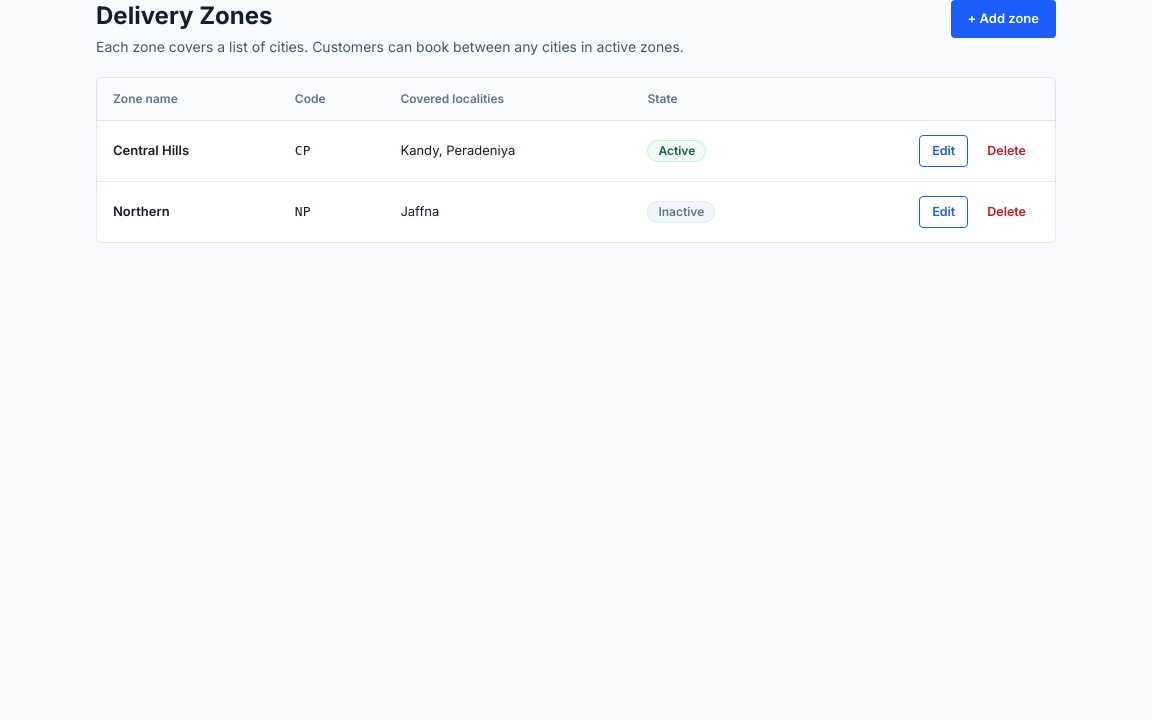
Test: ZoneManagementPage › edits a zone, including turning it off, and shows server conflicts
Click the button with aria-label "Edit Central Hills" at [944, 151], box [919,135,968,167]
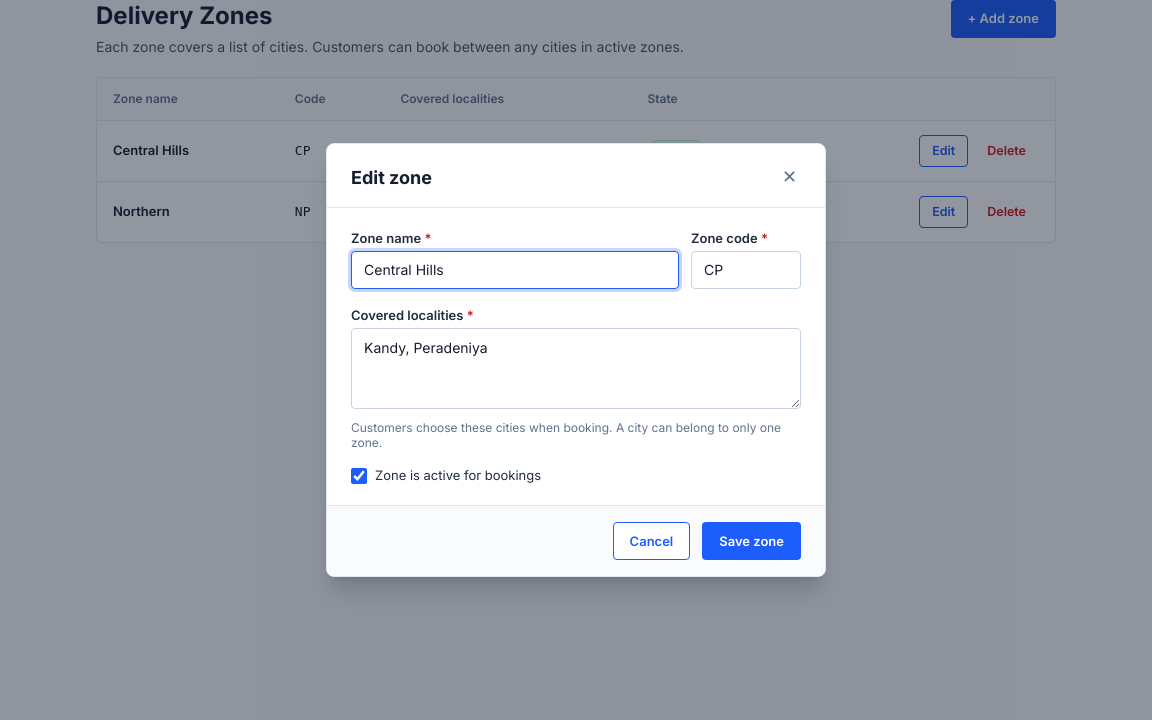
Expected: the text box labelled "Covered localities *" holds "Kandy, Peradeniya", [351,328,801,409]
Click the checkbox labelled "Zone is active for bookings" at [359, 476], box [351,468,367,484]
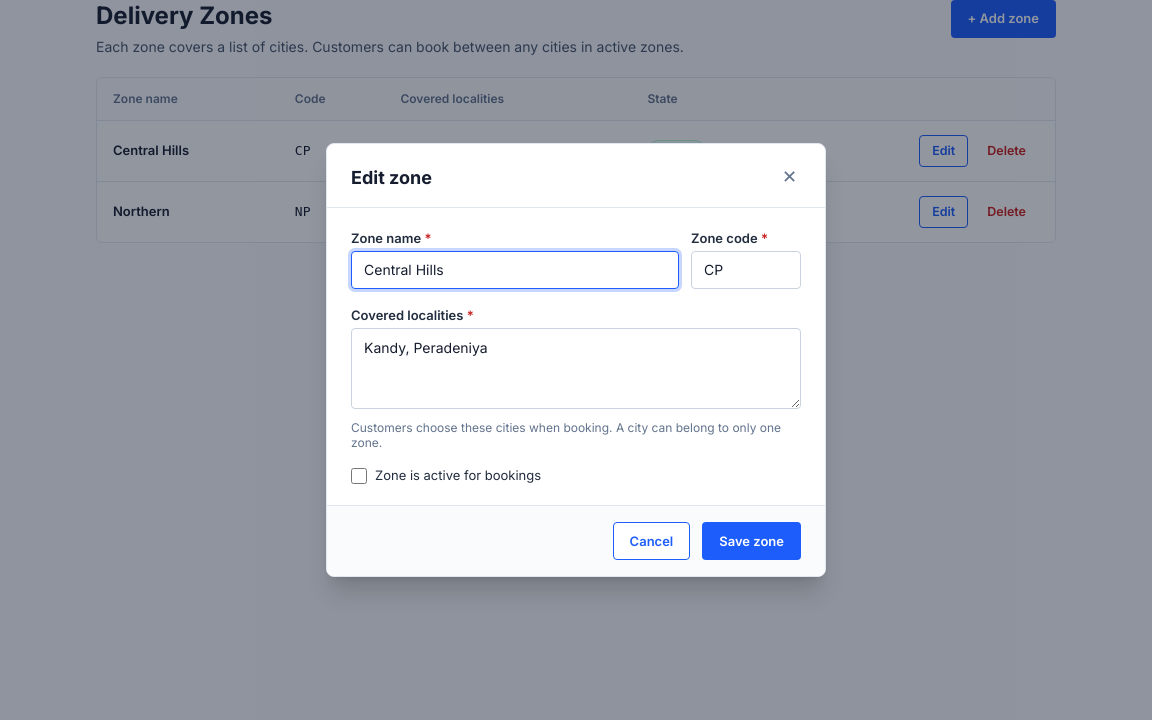
Click the button "Save zone" at [752, 541], box [702,522,801,560]
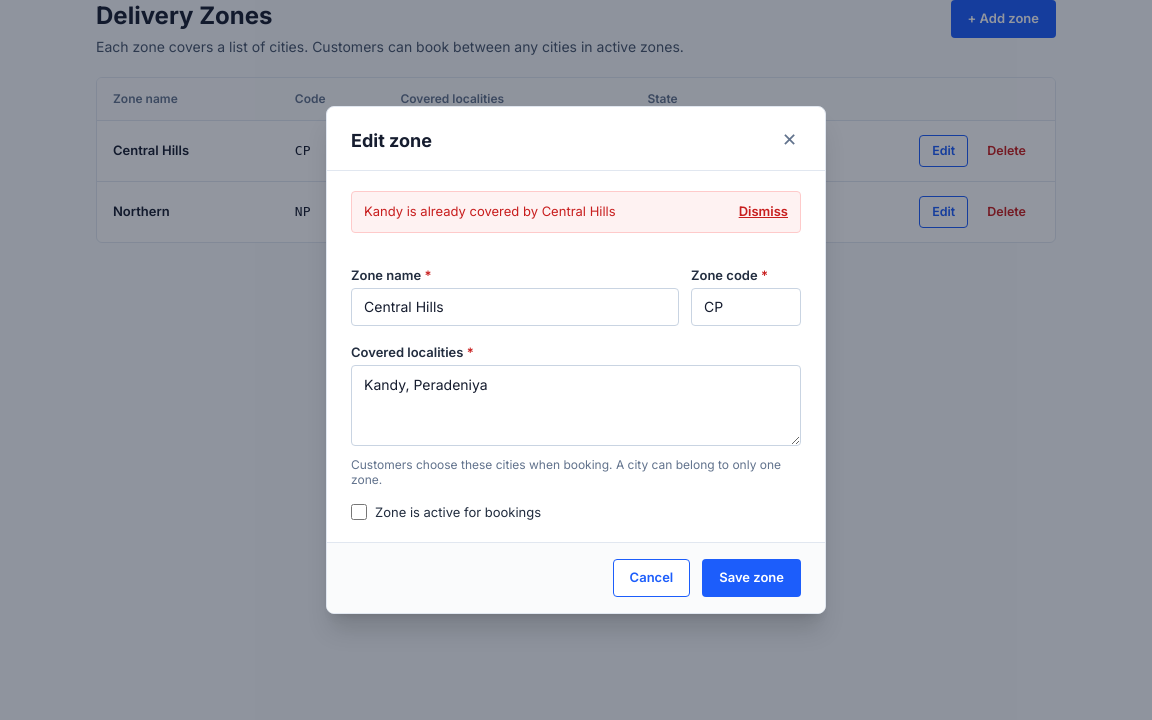
Expected: the text "Kandy is already covered by Central Hills" is shown, [364,202,616,222]
